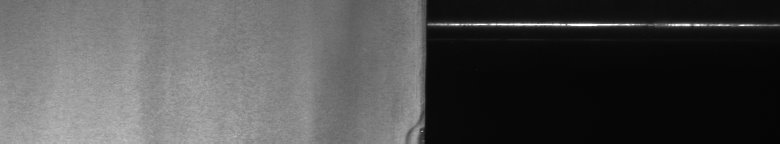hb: (399, 125, 412, 136)
